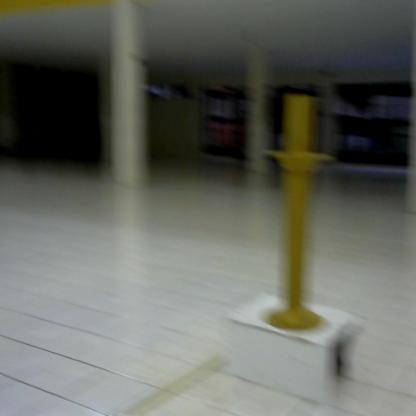pole: (260, 92, 337, 338)
